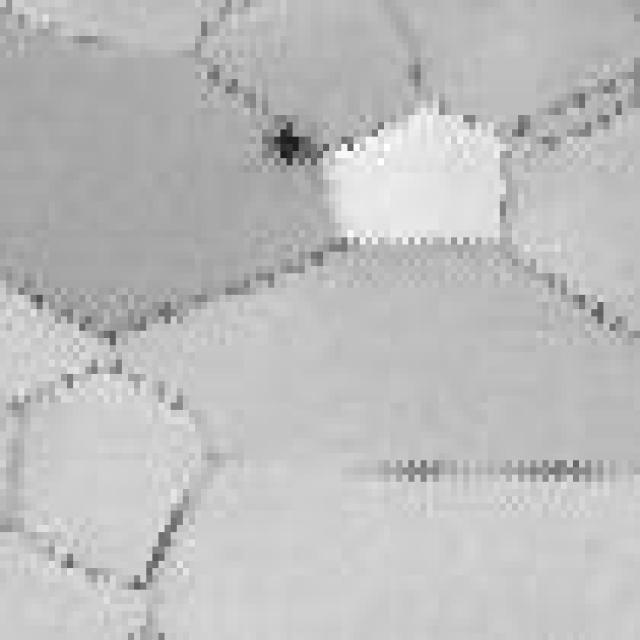good_void: (247, 112, 317, 173)
